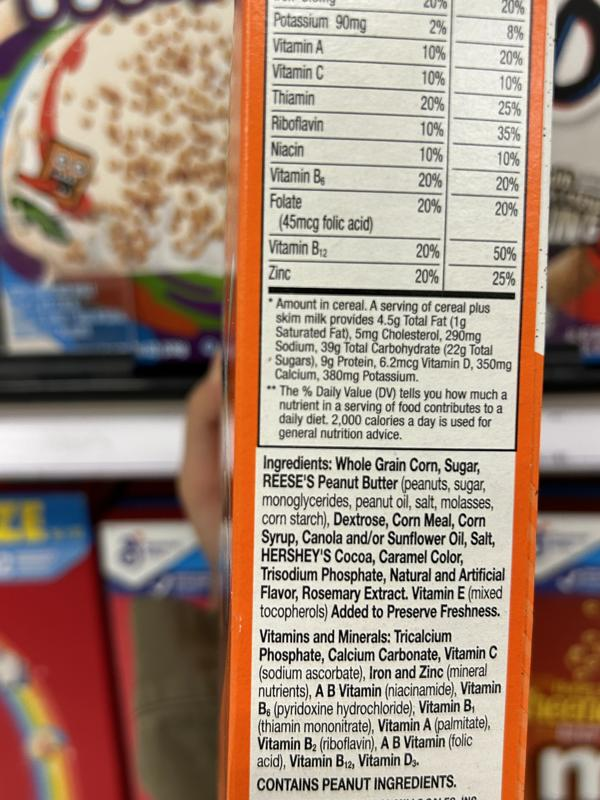ingredients: (259, 454, 506, 623)
